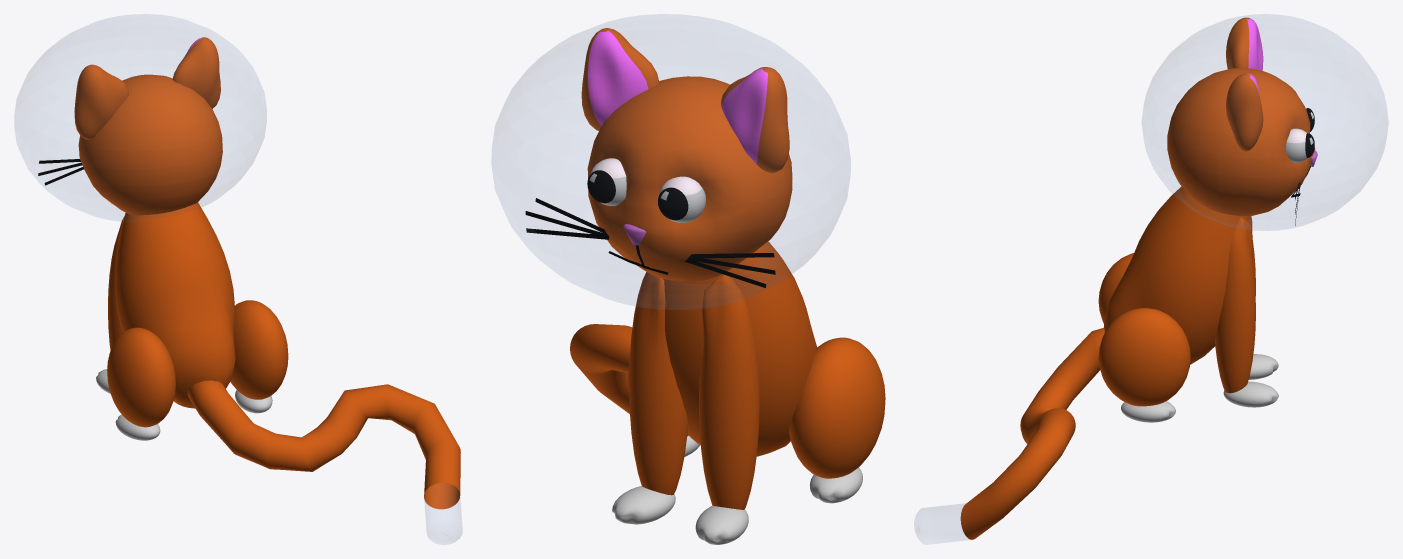
The model's file is NIko.obj.
3 views of the same model, side by side, from view 1: azimuth 30°, elevation 25°; view 2: azimuth 150°, elevation 25°; view 3: azimuth 270°, elevation 25° (orthographic). The views are drawn at different scales.
Parts seen in each view (by area): view 1: Sphere.011_Sphere.004, Sphere.001, Sphere, Cylinder, Sphere.004_Sphere.003, Sphere.006_Sphere.007, Sphere.002_Sphere.008, Sphere.003_Sphere.005; view 2: Sphere.011_Sphere.004, Sphere, Sphere.003_Sphere.005, Sphere.001, Sphere.004_Sphere.003, Sphere.006_Sphere.007, Cylinder, Sphere.005_Sphere.006, Sphere.002_Sphere.008, Sphere.007_Sphere.009, Sphere.008_Sphere.011, Sphere.010_Sphere.014 (+1 smaller); view 3: Sphere.011_Sphere.004, Sphere, Sphere.001, Cylinder, Sphere.004_Sphere.003, Sphere.003_Sphere.005, Sphere.006_Sphere.007, Sphere.005_Sphere.006, Sphere.002_Sphere.008, Sphere.008_Sphere.011.
Boxes of the visible parts, bbox=[...] form: Sphere.011_Sphere.004: bbox=[14, 14, 266, 221]; Sphere.001: bbox=[115, 202, 235, 408]; Sphere: bbox=[78, 74, 222, 215]; Cylinder: bbox=[187, 380, 461, 544]; Sphere.004_Sphere.003: bbox=[107, 300, 288, 427]; Sphere.006_Sphere.007: bbox=[74, 37, 220, 139]; Sphere.002_Sphere.008: bbox=[115, 390, 272, 440]; Sphere.003_Sphere.005: bbox=[108, 216, 124, 350]; Sphere.011_Sphere.004: bbox=[492, 14, 850, 309]; Sphere: bbox=[587, 76, 792, 281]; Sphere.003_Sphere.005: bbox=[629, 271, 759, 509]; Sphere.001: bbox=[663, 241, 816, 456]; Sphere.004_Sphere.003: bbox=[628, 337, 885, 478]; Sphere.006_Sphere.007: bbox=[581, 28, 789, 173]; Cylinder: bbox=[570, 324, 632, 413]; Sphere.005_Sphere.006: bbox=[612, 486, 748, 544]; Sphere.002_Sphere.008: bbox=[684, 435, 862, 503]; Sphere.007_Sphere.009: bbox=[659, 176, 705, 222]; Sphere.008_Sphere.011: bbox=[589, 158, 626, 205]; Sphere.010_Sphere.014: bbox=[658, 187, 688, 220]; Sphere.011_Sphere.004: bbox=[1142, 14, 1388, 230]; Sphere: bbox=[1167, 68, 1315, 216]; Sphere.001: bbox=[1103, 186, 1252, 364]; Cylinder: bbox=[914, 327, 1104, 544]; Sphere.004_Sphere.003: bbox=[1098, 253, 1190, 406]; Sphere.003_Sphere.005: bbox=[1215, 216, 1255, 393]; Sphere.006_Sphere.007: bbox=[1226, 17, 1263, 151]; Sphere.005_Sphere.006: bbox=[1223, 354, 1278, 407]; Sphere.002_Sphere.008: bbox=[1121, 401, 1175, 422]; Sphere.008_Sphere.011: bbox=[1285, 128, 1307, 162].
Bounding box in the file's own units: 4.32 × 5.96 × 5.77.
